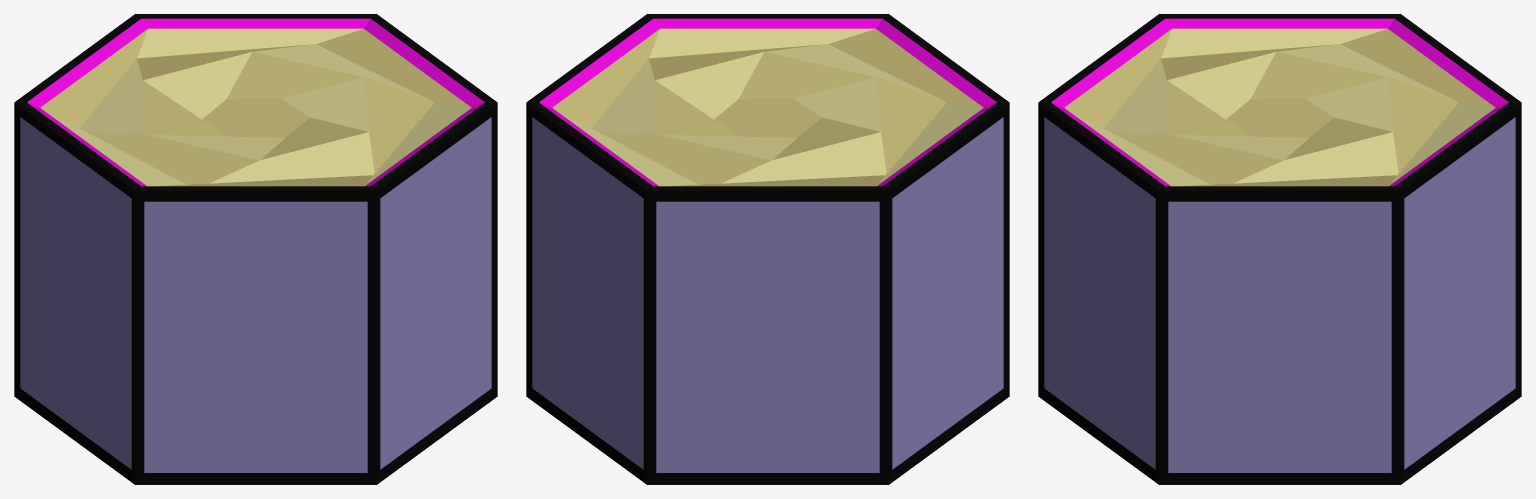
The model's file is SandHex.fbx.
3 views of the same model, side by side, from view 1: azimuth 30°, elevation 25°; view 2: azimuth 150°, elevation 25°; view 3: azimuth 270°, elevation 25° (orthographic).
Parts seen in each view (by area): view 1: Circle; view 2: Circle; view 3: Circle.
Boxes of the visible parts, x1=… form: Circle: x1=14, y1=14, x2=497, y2=484; Circle: x1=526, y1=14, x2=1009, y2=484; Circle: x1=1038, y1=14, x2=1521, y2=484.
Size of the model in its own units: 173 by 134 by 200.
